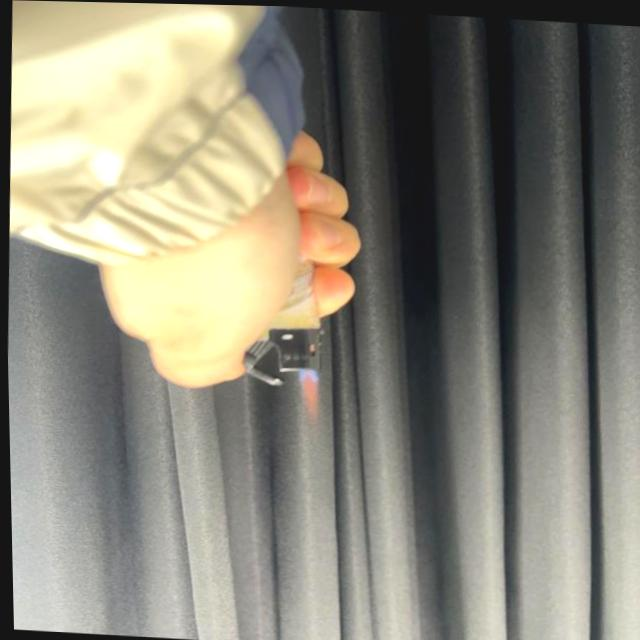helmet: (293, 367, 323, 417)
